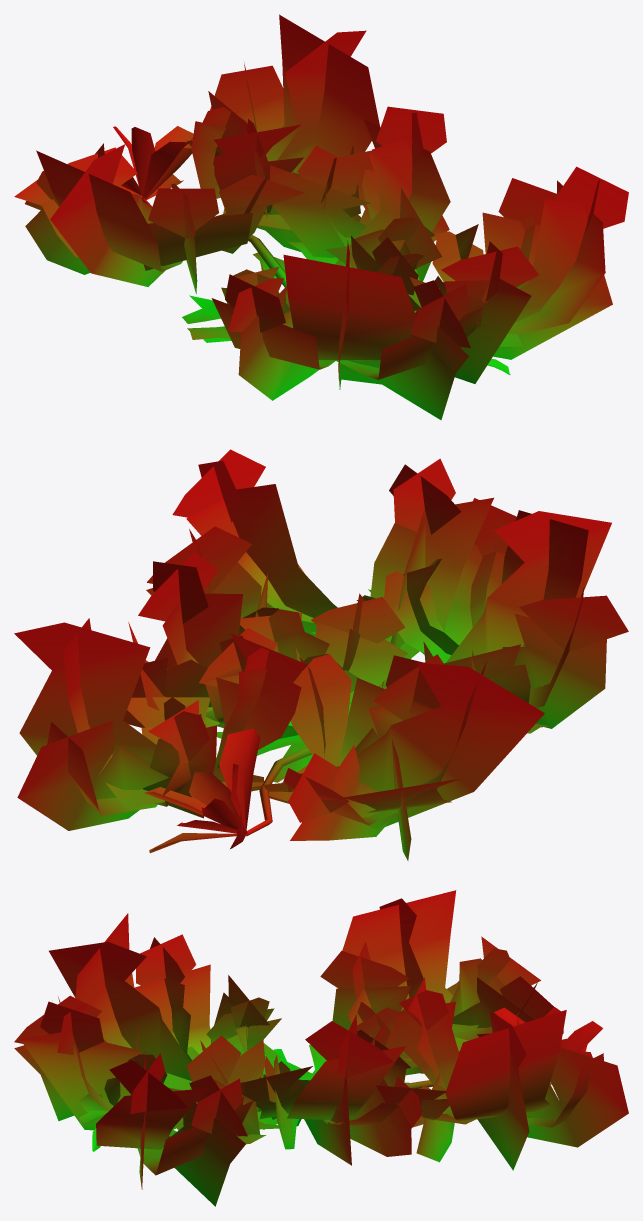
Rendered from Alpine Bearberry_LOD4_Var6_xb0gdazqx.fbx.
The picture shows the model from 3 angles, top to bottom: view 1: azimuth 30°, elevation 25°; view 2: azimuth 150°, elevation 25°; view 3: azimuth 270°, elevation 25°; orthographic projection. The views are drawn at different scales.
Parts seen in each view (by area): view 1: _79uu_Var6_LOD4; view 2: _79uu_Var6_LOD4; view 3: _79uu_Var6_LOD4.
Boxes of the visible parts, x1=… form: _79uu_Var6_LOD4: x1=14, y1=14, x2=628, y2=419; _79uu_Var6_LOD4: x1=14, y1=449, x2=628, y2=860; _79uu_Var6_LOD4: x1=14, y1=890, x2=628, y2=1206.
Bounding box in the file's own units: 36.38 × 14.53 × 47.23.
